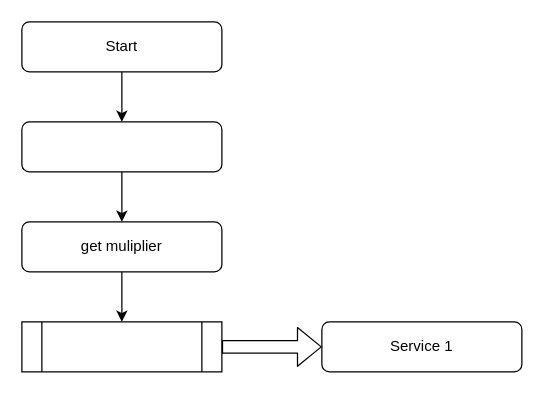
The diagram is 544 pixels wide and 394 high, and some of its shapes have lost their labels. Here are the shapes that lost their labels. From the top down, the centre of each, then its label:
At point 121,146: "get amount".
At point 121,346: "amount * multiplier".
